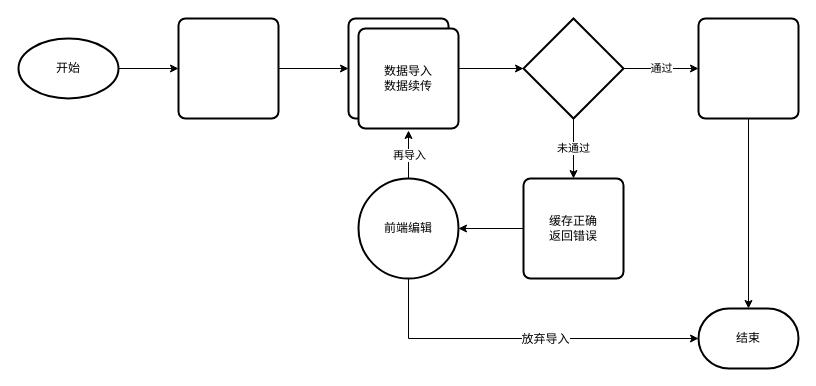
The diagram is 816 pixels wide and 386 high, and some of its shapes have lost their labels. The shapes that lost their labels are listed below. From the top down, each one's centre as x and y in pixels, then its label:
At point (228, 68): "下载模板".
At point (573, 68): "数据校验".
At point (748, 68): "保存数据".
